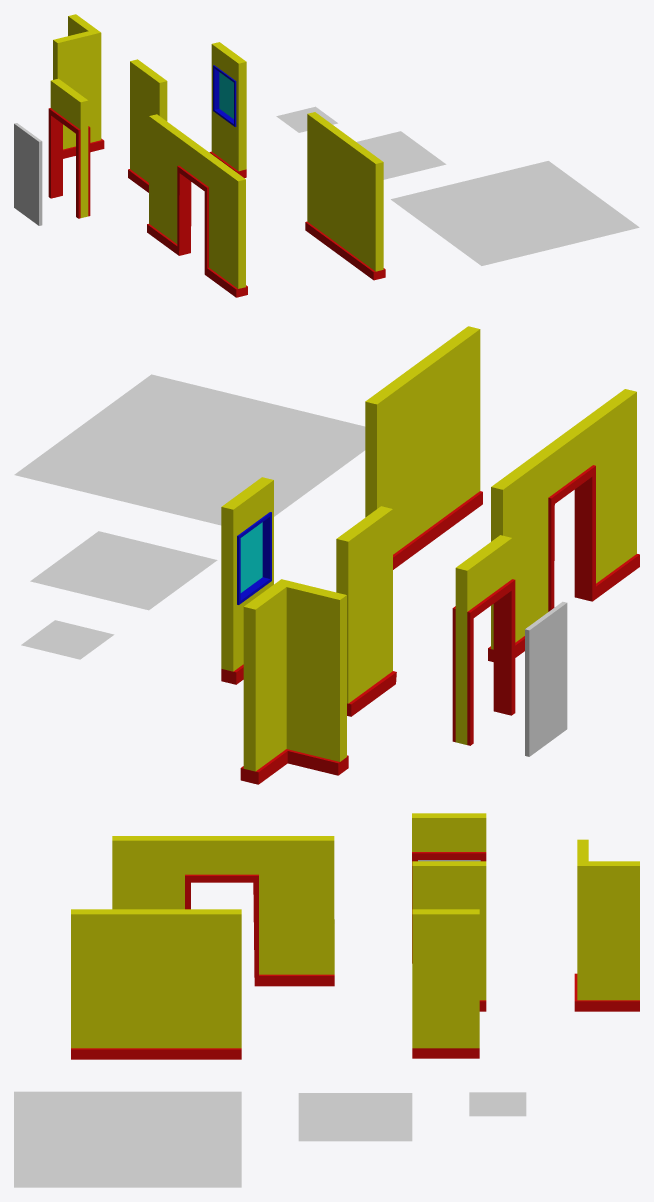
Rendered from Mesh_ModularKit.fbx.
3 views of the same model, one above another, from view 1: azimuth 30°, elevation 25°; view 2: azimuth 150°, elevation 25°; view 3: azimuth 270°, elevation 25° (orthographic). The views are drawn at different scales.
Parts seen in each view (by area): view 1: Sol_large, Mur_cadre_porte, Long_mur, Double_coin_interieur, Fenetre, Cadre_porte, Mur_simple, Porte, Sol_moyen, Sol_petit; view 2: Sol_large, Mur_cadre_porte, Long_mur, Double_coin_interieur, Mur_simple, Cadre_porte, Sol_moyen, Fenetre, Porte, Sol_petit; view 3: Long_mur, Sol_large, Mur_cadre_porte, Fenetre, Double_coin_interieur, Sol_moyen, Mur_simple, Cadre_porte, Sol_petit.
Part boxes in pixels (bbox=[...]): Sol_large: bbox=[391, 161, 639, 265]; Mur_cadre_porte: bbox=[147, 114, 247, 297]; Long_mur: bbox=[305, 112, 385, 280]; Double_coin_interieur: bbox=[53, 14, 104, 158]; Fenetre: bbox=[209, 42, 246, 177]; Cadre_porte: bbox=[48, 78, 90, 218]; Mur_simple: bbox=[128, 59, 167, 192]; Porte: bbox=[14, 123, 42, 225]; Sol_moyen: bbox=[356, 131, 446, 179]; Sol_petit: bbox=[276, 106, 337, 132]; Sol_large: bbox=[14, 374, 365, 525]; Mur_cadre_porte: bbox=[488, 389, 639, 661]; Long_mur: bbox=[365, 326, 482, 569]; Double_coin_interieur: bbox=[240, 579, 348, 784]; Mur_simple: bbox=[336, 506, 396, 716]; Cadre_porte: bbox=[452, 535, 515, 745]; Sol_moyen: bbox=[30, 531, 217, 610]; Fenetre: bbox=[221, 477, 273, 684]; Porte: bbox=[525, 601, 567, 756]; Sol_petit: bbox=[21, 620, 114, 659]; Long_mur: bbox=[71, 909, 241, 1059]; Sol_large: bbox=[14, 1091, 241, 1187]; Mur_cadre_porte: bbox=[112, 836, 334, 986]; Fenetre: bbox=[412, 909, 479, 1058]; Double_coin_interieur: bbox=[574, 839, 639, 1011]; Sol_moyen: bbox=[298, 1093, 412, 1141]; Mur_simple: bbox=[412, 861, 486, 1011]; Cadre_porte: bbox=[412, 813, 486, 963]; Sol_petit: bbox=[469, 1092, 526, 1116].
Bounding box in the file's own units: 1108 × 280 × 1100.
